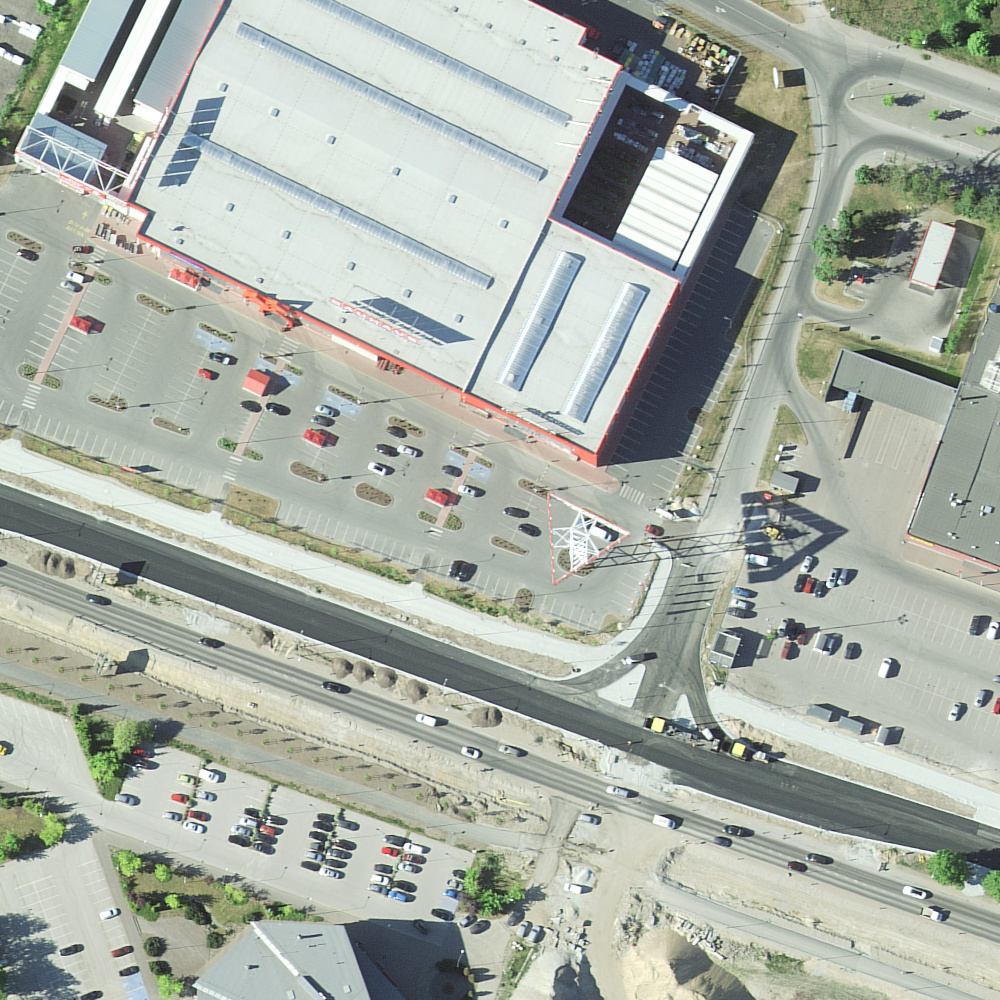building: (16, 2, 752, 456), (829, 282, 999, 569), (193, 919, 370, 1000), (912, 224, 956, 289)
